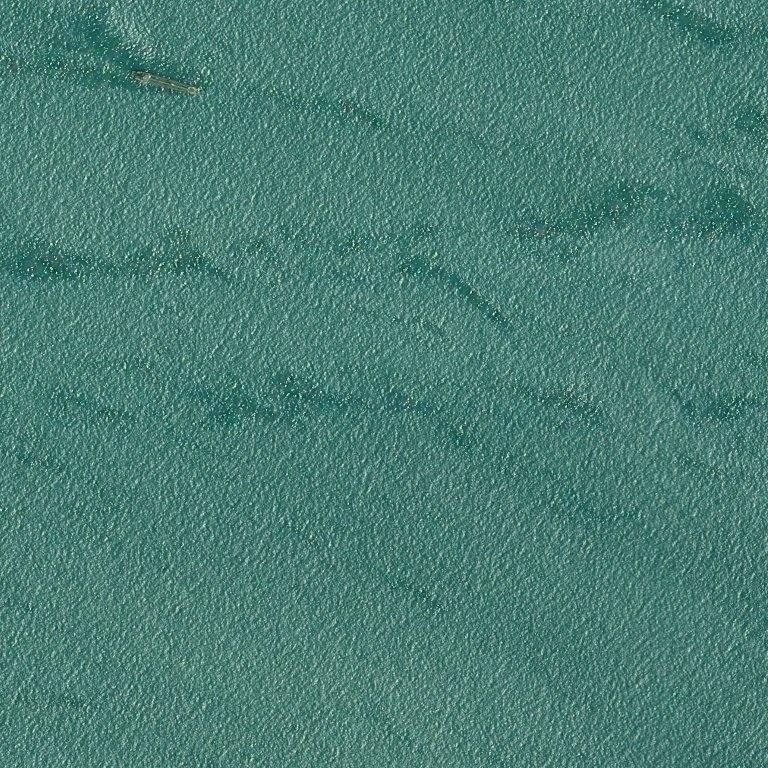ship: (129, 68, 200, 98)
